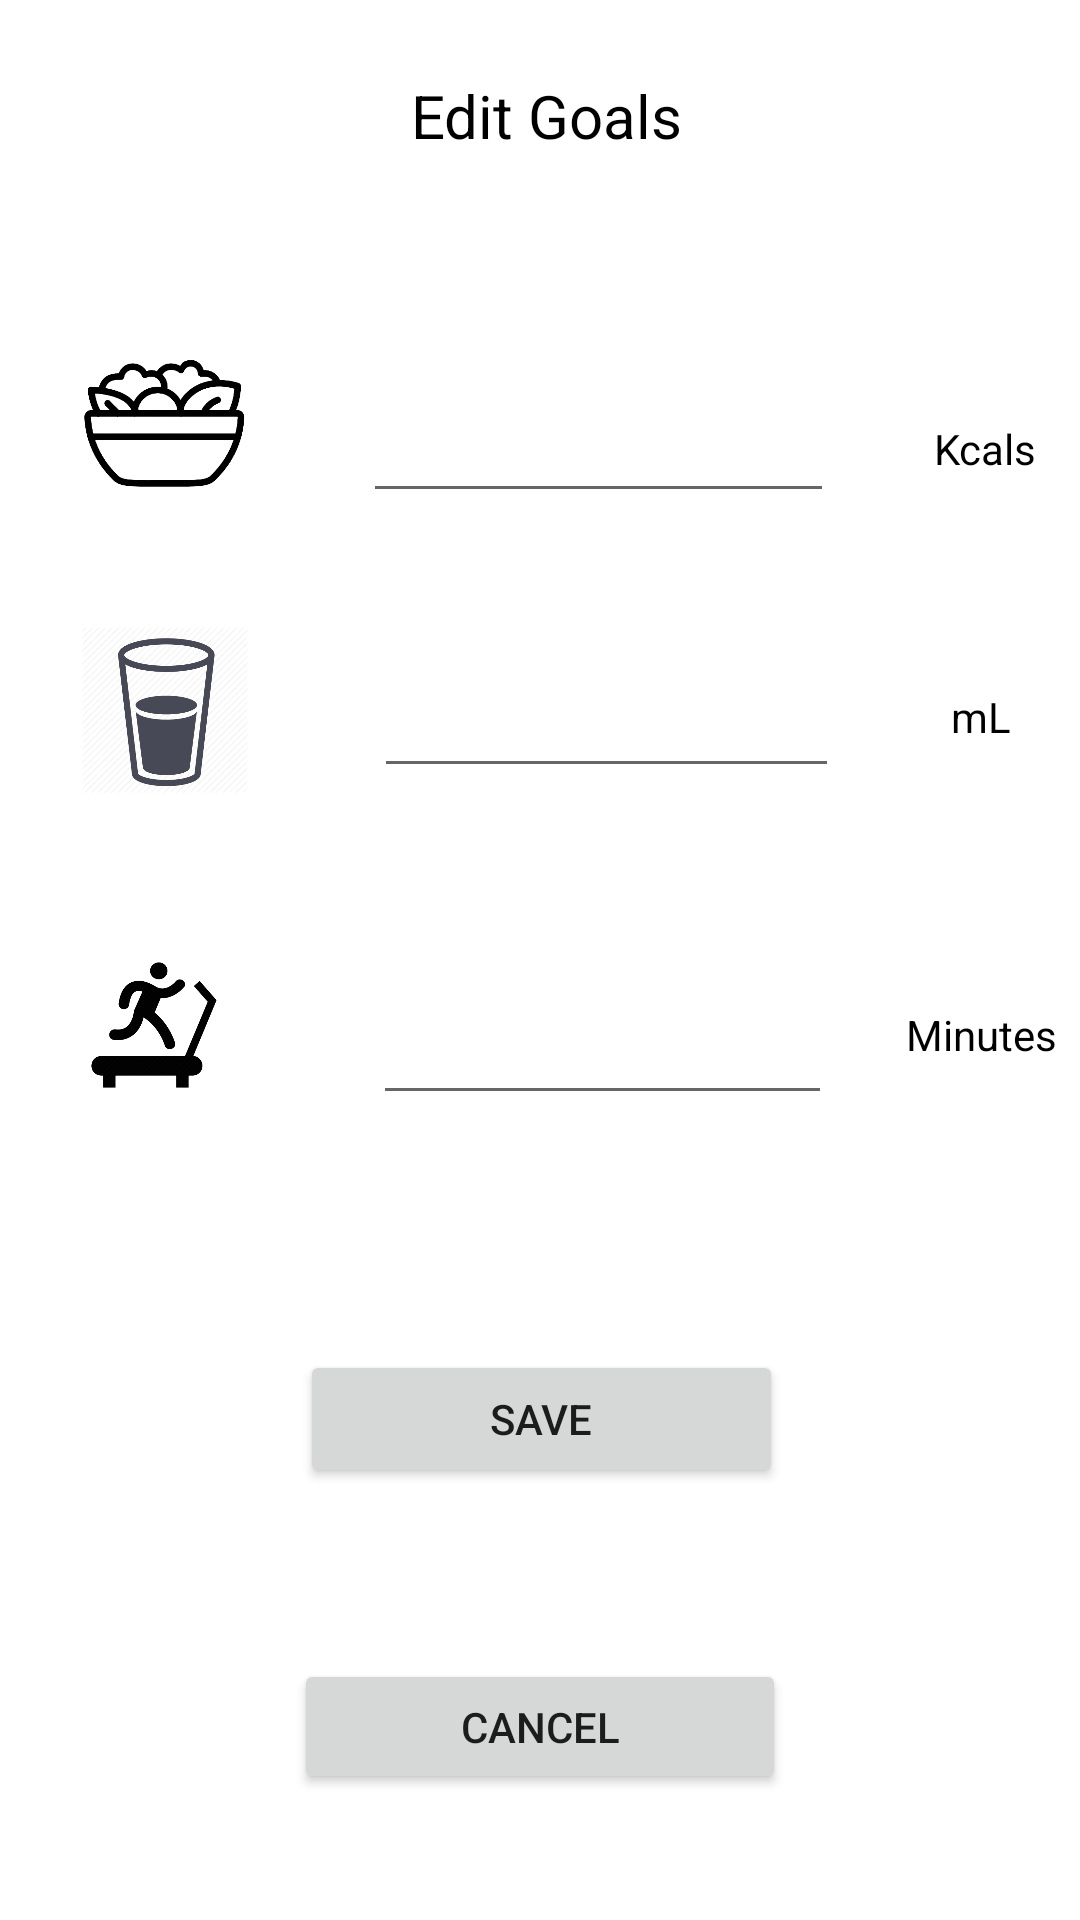

Locate icon controls on the screen. Image size 1080px×1920px, boxes as box=[x1, y1, x2, y2].
exercise: box=[91, 962, 217, 1088]
food: box=[84, 360, 244, 487]
water: box=[118, 638, 215, 786]
